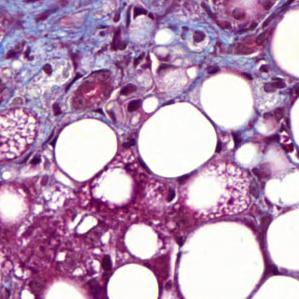steatosis: (139, 102, 216, 178), (55, 119, 118, 184), (105, 263, 161, 299)
